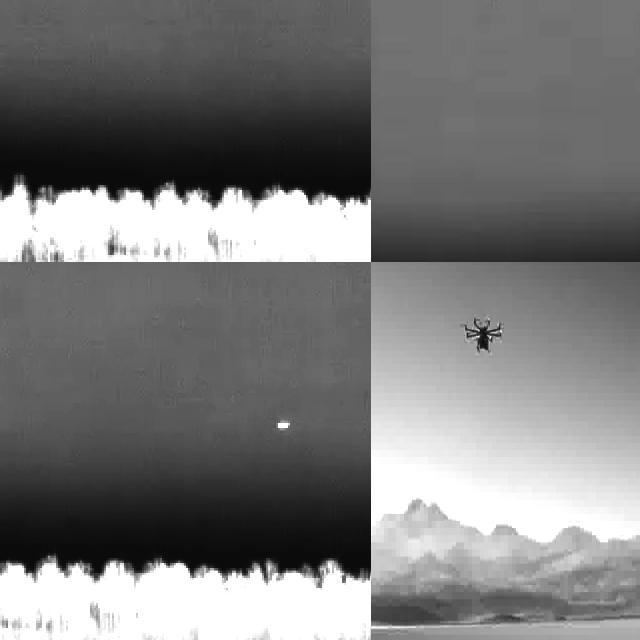0: (482, 0, 506, 13)
1: (265, 416, 295, 438)
drone: (457, 314, 506, 362)
